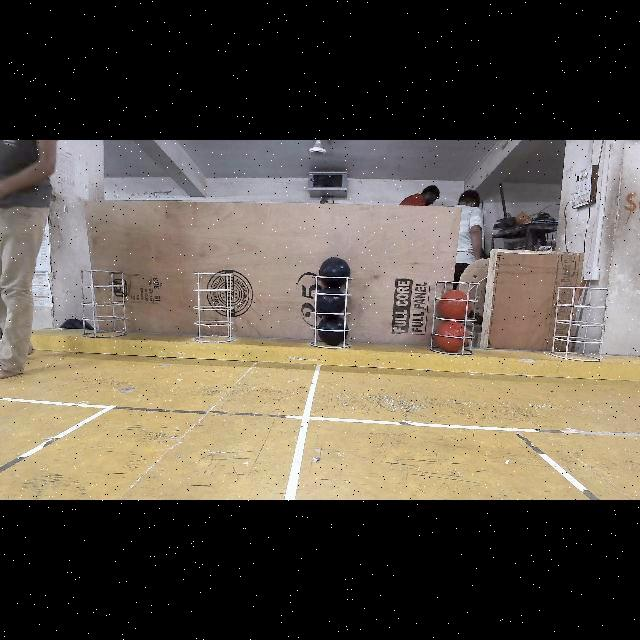P: (319, 258, 350, 288), (319, 315, 349, 345), (318, 288, 344, 316)
R: (437, 319, 467, 351), (440, 292, 470, 320)
S: (550, 280, 606, 358), (431, 273, 484, 355), (76, 266, 130, 344), (306, 270, 356, 346), (192, 270, 242, 344)
